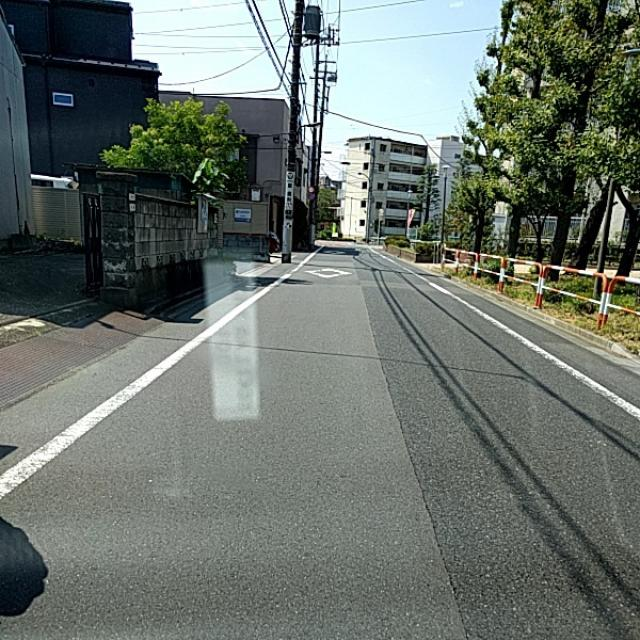pothole: (404, 413, 448, 542)
